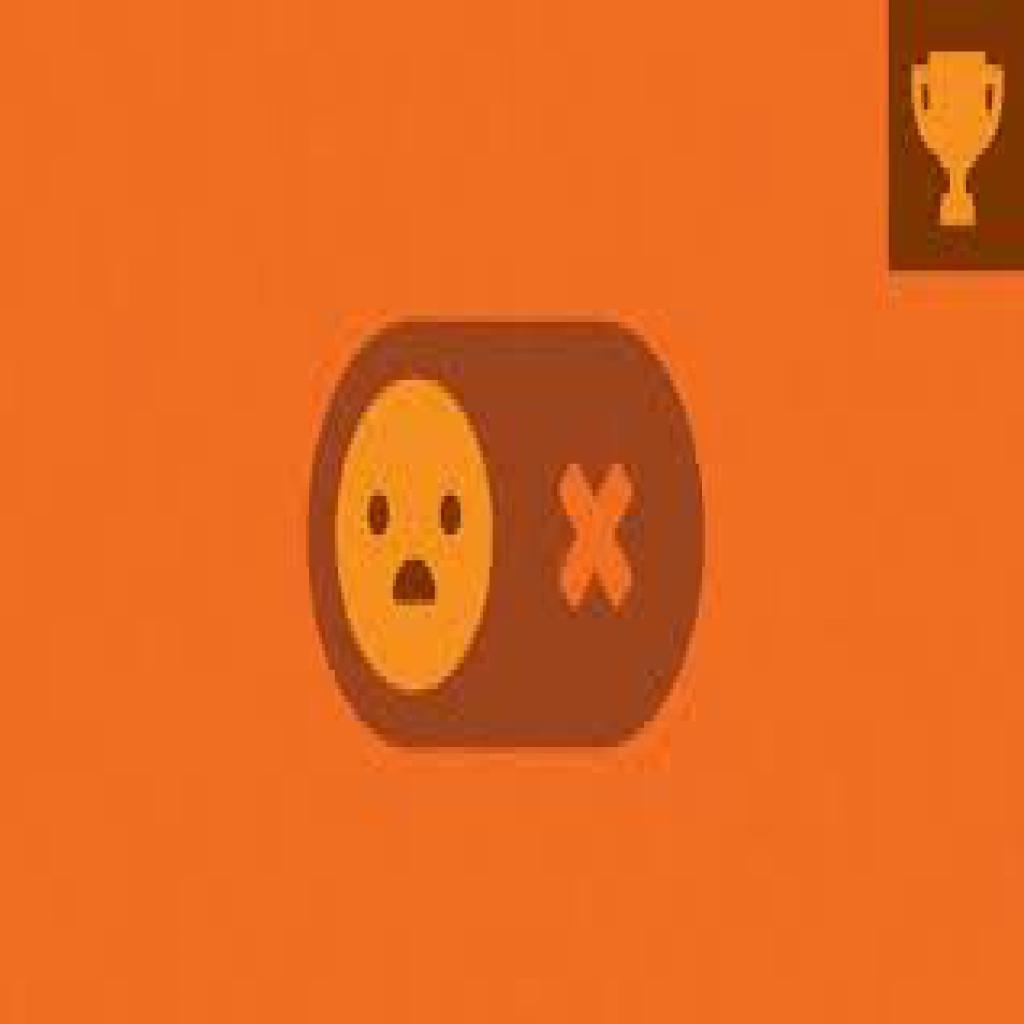switch: (306, 322, 705, 750)
